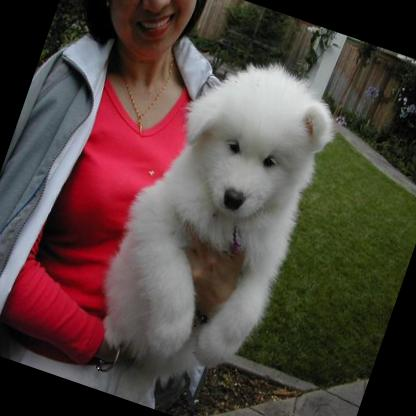Samoyed: (78, 29, 349, 398)
